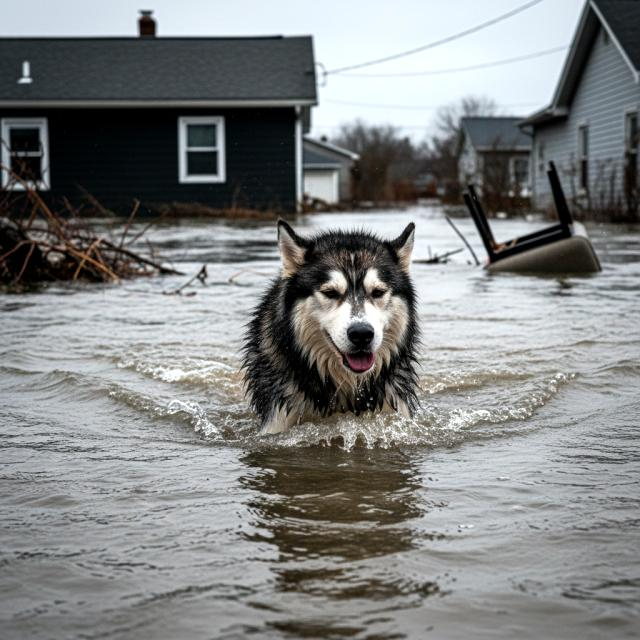dog: (238, 198, 447, 445)
